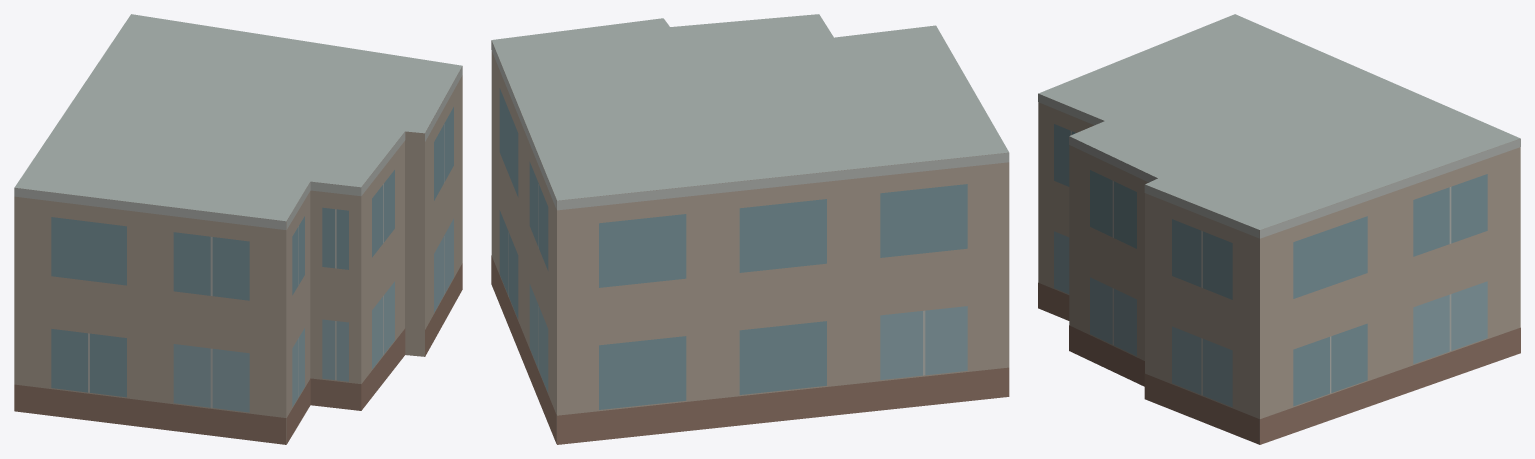
The model's file is survey-upis-32724816.glb.
3 renders of one model, left to right at view 1: azimuth 30°, elevation 25°; view 2: azimuth 150°, elevation 25°; view 3: azimuth 270°, elevation 25°, orthographic. The views are drawn at different scales.
Visible parts, largest first — view 1: survey-upis-32724816.tmp; view 2: survey-upis-32724816.tmp; view 3: survey-upis-32724816.tmp.
Boxes of the visible parts, <box> form: survey-upis-32724816.tmp: <box>14,14,462,444</box>; survey-upis-32724816.tmp: <box>491,14,1009,444</box>; survey-upis-32724816.tmp: <box>1038,14,1520,444</box>.
Bounding box in the file's own units: 13.18 × 6.1 × 12.43.
